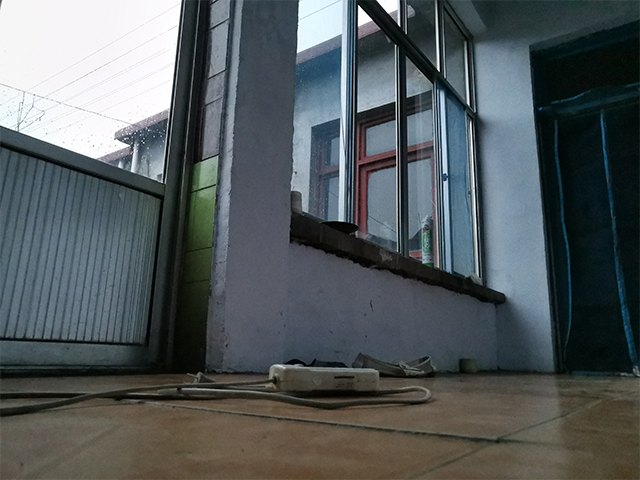wire: (1, 362, 432, 419)
